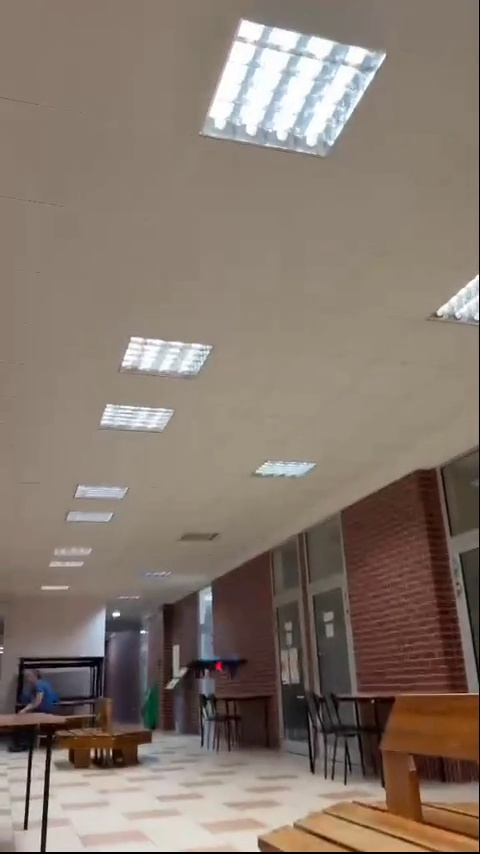drone: (187, 656, 247, 676)
no vest: (19, 665, 58, 715)
